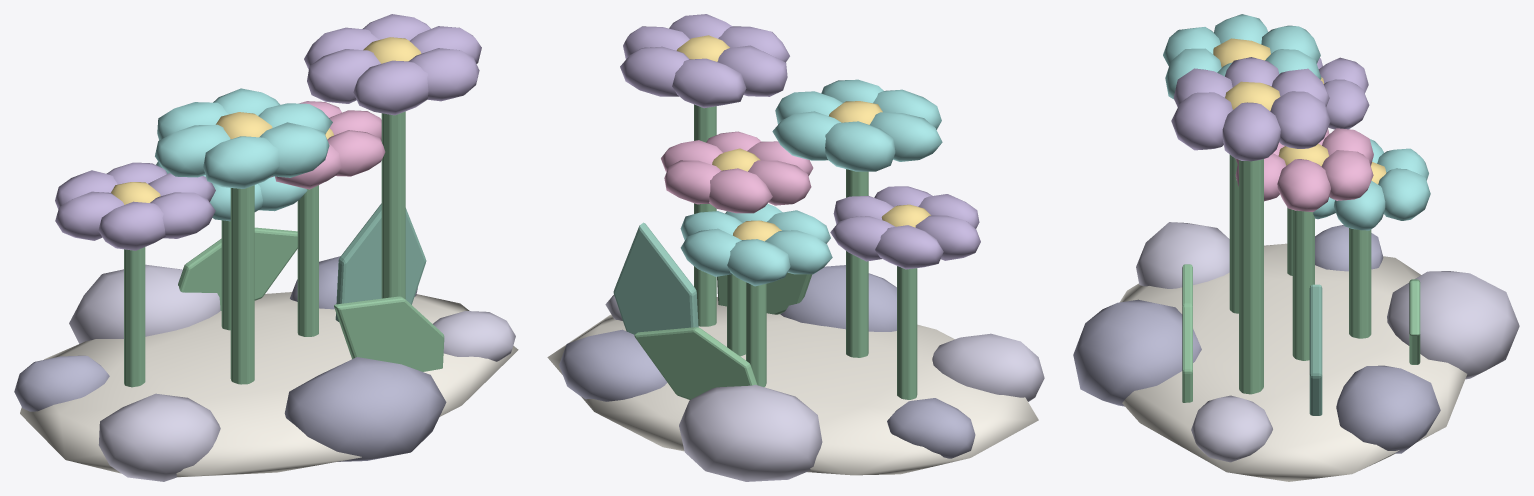
File: lagoon_flower_cluster_lavender.glb
3 renders of one model, left to right at view 1: azimuth 30°, elevation 25°; view 2: azimuth 150°, elevation 25°; view 3: azimuth 270°, elevation 25°, orthographic. The views are drawn at different scales.
Visible parts, largest first — view 1: lagoon_flower_cluster_lavender.001; view 2: lagoon_flower_cluster_lavender.001; view 3: lagoon_flower_cluster_lavender.001.
Boxes of the visible parts, x1,y1,x2,y2 form: lagoon_flower_cluster_lavender.001: (14,14,518,481); lagoon_flower_cluster_lavender.001: (547,14,1044,481); lagoon_flower_cluster_lavender.001: (1073,14,1519,481).
Bounding box in the file's own units: 2.85 × 2.15 × 2.39.
